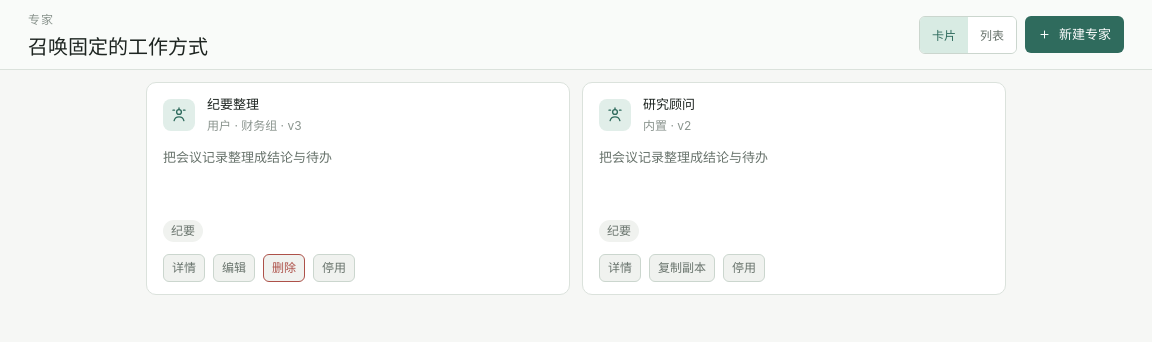
Test: ExpertsPage 的目录条目 › 切到列表档后，同一条目的动作与署名一格不少——两种视图不许各自长出一套
Click the button "列表" at (992, 34), box [968,16,1016,52]
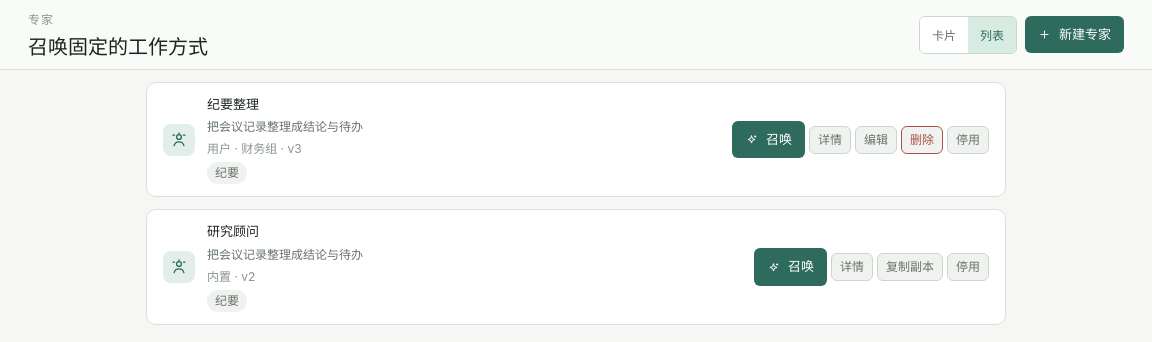
expect the text with class "list-row-meta" reads "用户 · 财务组 · v3": met, box [207,141,302,156]
expect the element with class "list-row" that starts with "纪要整理" is shown: met, box [146,82,1006,197]
